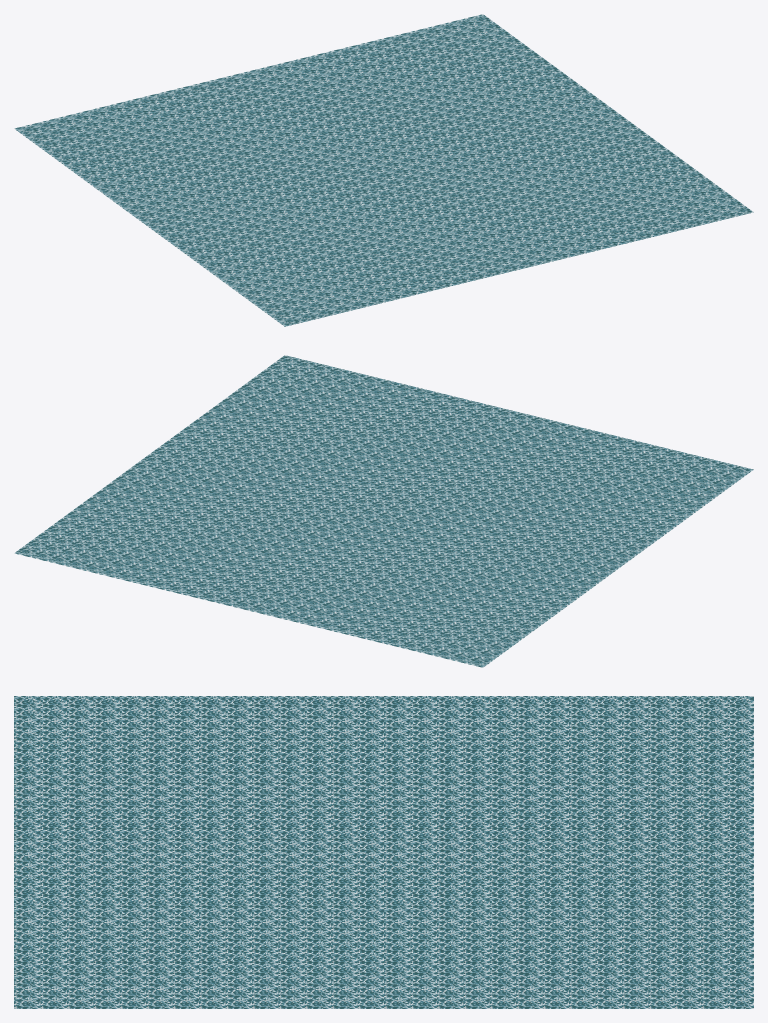
The model's file is env_swamp_water.fbx.
3 renders of one model, top to bottom at view 1: azimuth 30°, elevation 25°; view 2: azimuth 150°, elevation 25°; view 3: azimuth 270°, elevation 25°, orthographic. The views are drawn at different scales.
Visible parts, largest first — view 1: Water; view 2: Water; view 3: Water.
Boxes of the visible parts, left/top/right/bottom form: Water: left=14, top=14, right=753, bottom=326; Water: left=14, top=355, right=753, bottom=667; Water: left=14, top=696, right=753, bottom=1008.
Size of the model in its own units: 3000 by 0 by 3000.
Materials: 1 (1 with a texture image).
